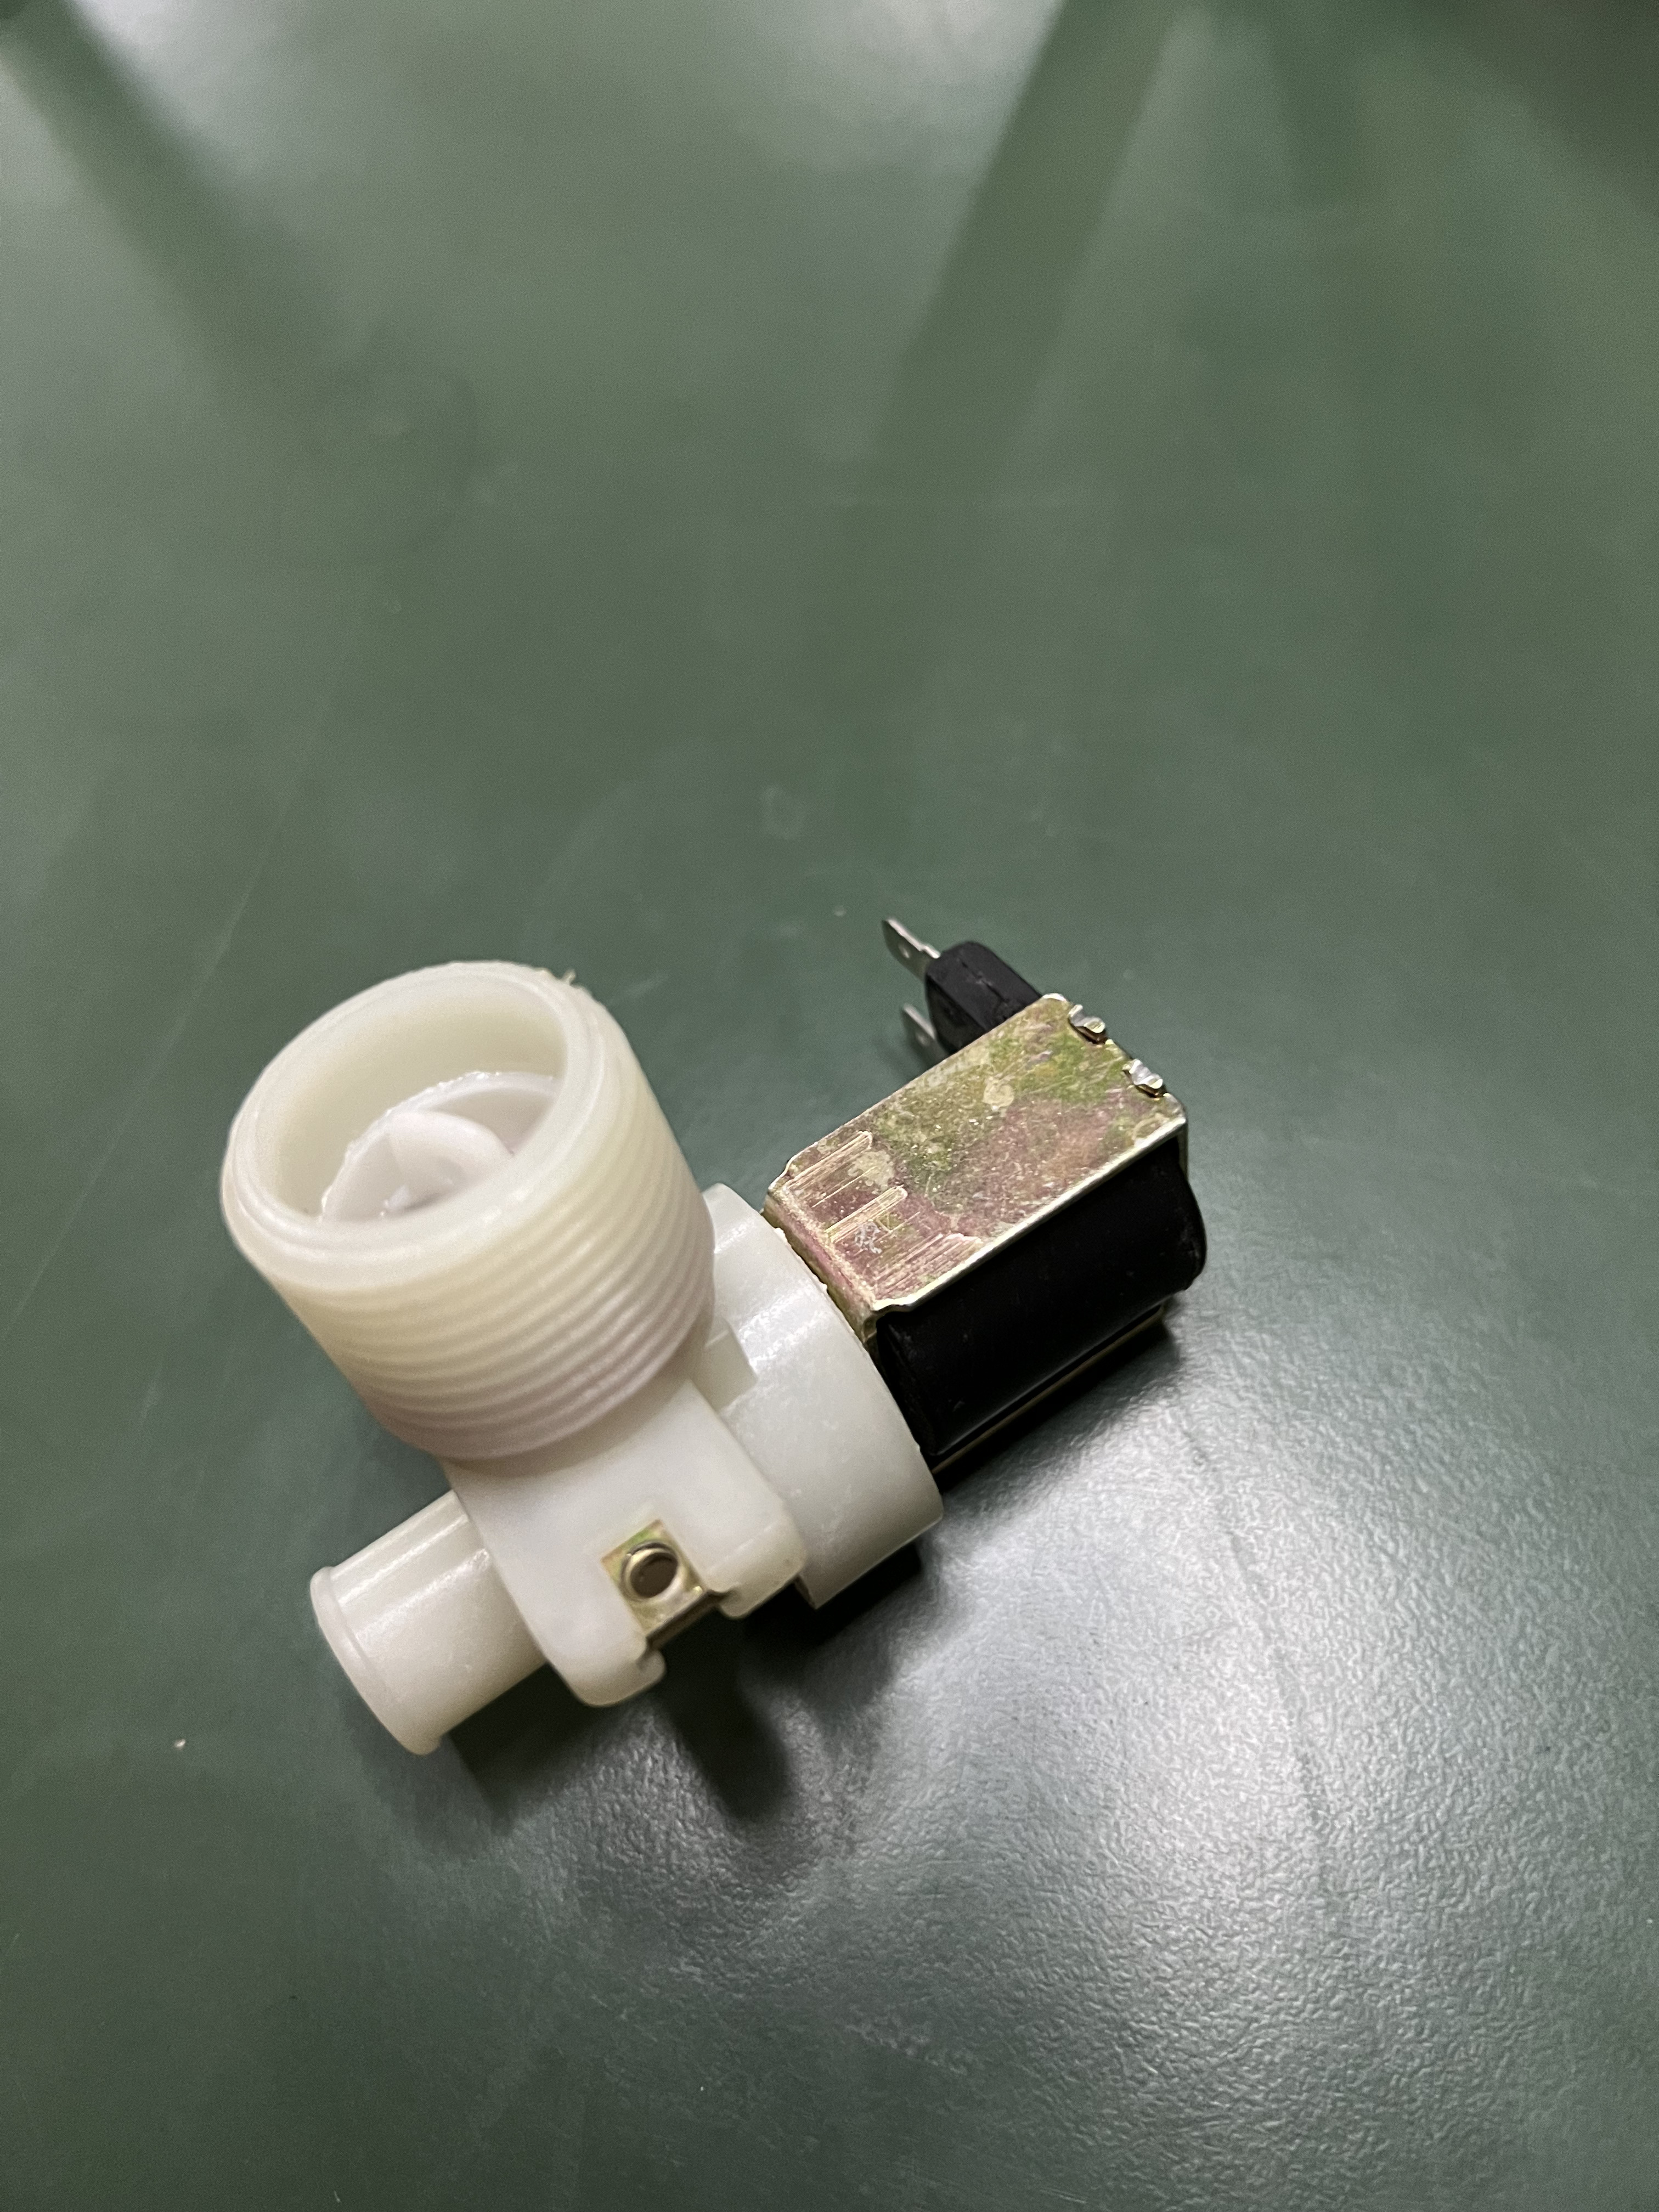godrej_inlet_valves: (146, 892, 1222, 1780)
